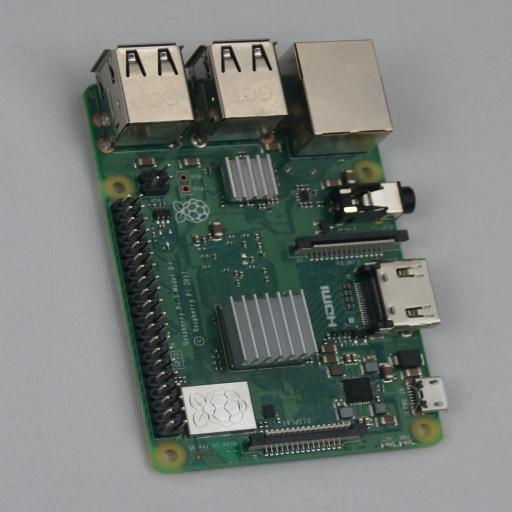Raspberry Pi 3 B-: (78, 39, 446, 473)
